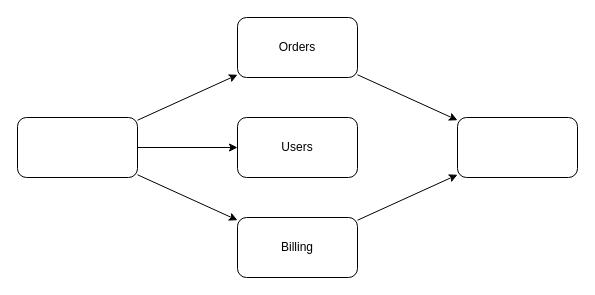
This 595x295 diagram has some shape labels left out. Here are the shapes that lost their labels. From the top down, the centre of each, then its label:
(x=77, y=147): Gateway
(x=517, y=147): Shared DB
